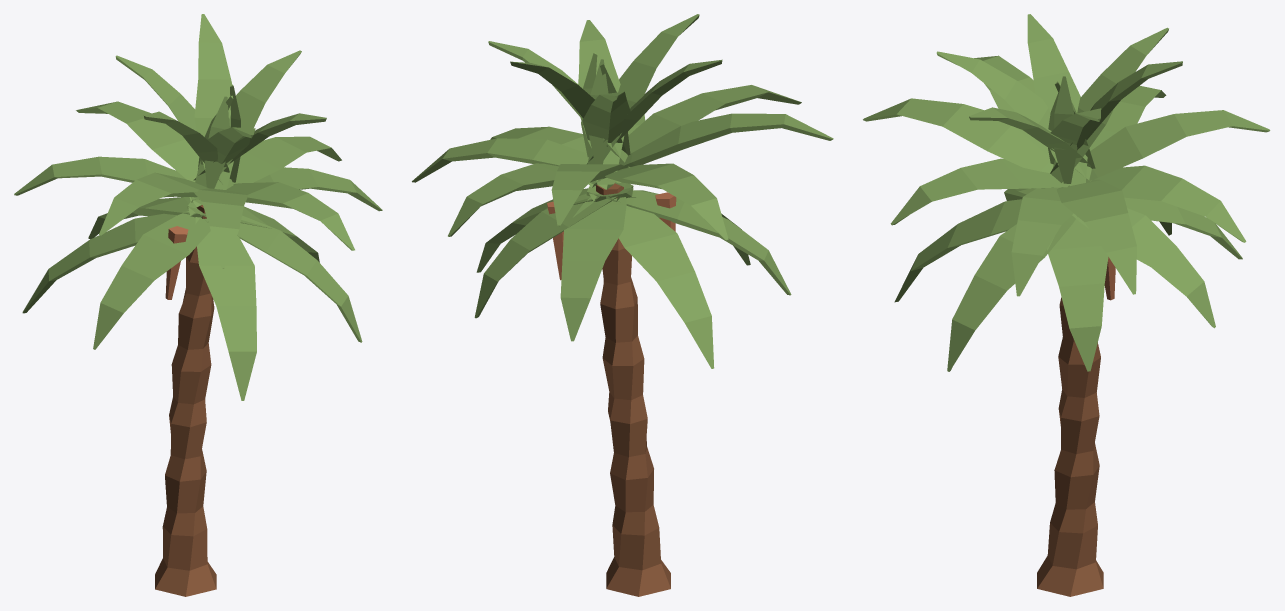
Rendered from palm.glb.
3 renders of one model, left to right at view 1: azimuth 30°, elevation 25°; view 2: azimuth 150°, elevation 25°; view 3: azimuth 270°, elevation 25°, orthographic. The views are drawn at different scales.
Parts seen in each view (by area): view 1: crown, trunk-col; view 2: crown, trunk-col; view 3: crown, trunk-col.
Part boxes in pixels (x1,y1,x2,y2): crown: [14, 14, 382, 400]; trunk-col: [155, 205, 216, 596]; crown: [412, 14, 833, 368]; trunk-col: [596, 183, 670, 596]; crown: [863, 14, 1270, 371]; trunk-col: [1037, 297, 1103, 596].
Bounding box in the file's own units: 5.17 × 7.89 × 5.26.
